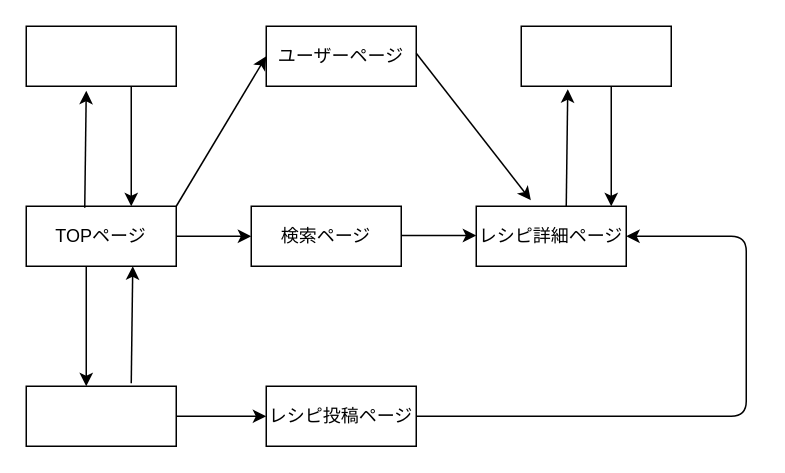
The diagram is 785 pixels wide and 473 high, and some of its shapes have lost their labels. Each missing label, with the centre of its shape:
レシピ編集ページ: the point at 595,55
ログインページ: the point at 100,415
新規登録ページ: the point at 100,55
